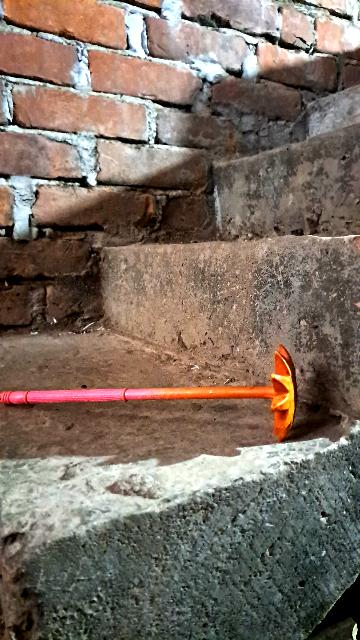hardplastic: (19, 340, 307, 447)
